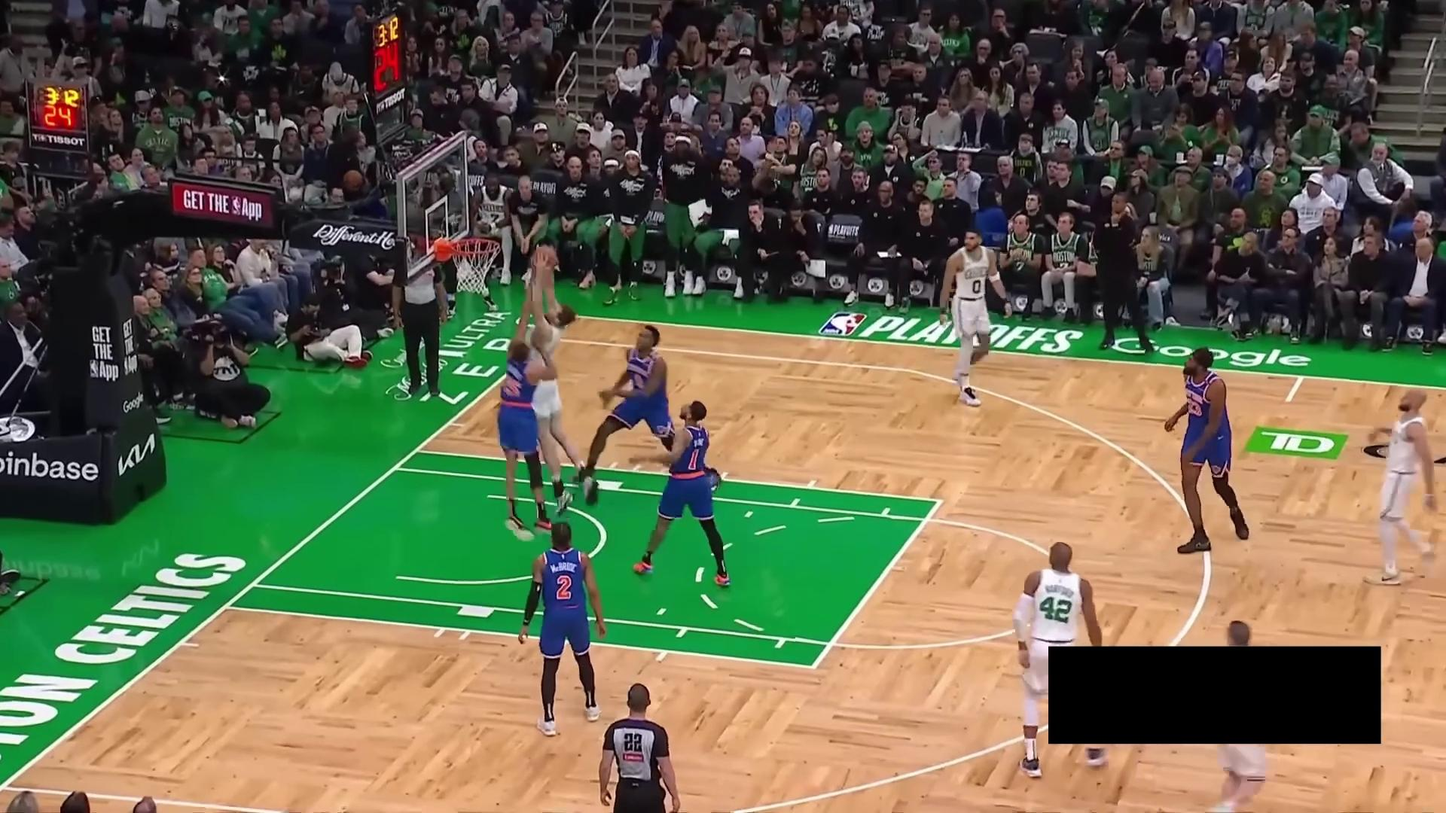ball: (528, 243, 561, 278)
number: (1038, 594, 1074, 625), (553, 570, 574, 600), (684, 446, 701, 471), (1187, 398, 1202, 417), (971, 279, 981, 295)
player: (1011, 540, 1112, 781), (512, 516, 618, 741), (628, 393, 737, 588), (1163, 341, 1258, 554), (566, 318, 682, 486), (1362, 382, 1445, 593), (1198, 614, 1276, 813), (939, 225, 1013, 408)
player-layup-dunk: (527, 241, 602, 518)
player-shot-block: (491, 280, 566, 545)
referee: (590, 676, 681, 813), (390, 253, 448, 398)
rim: (448, 235, 502, 257)
